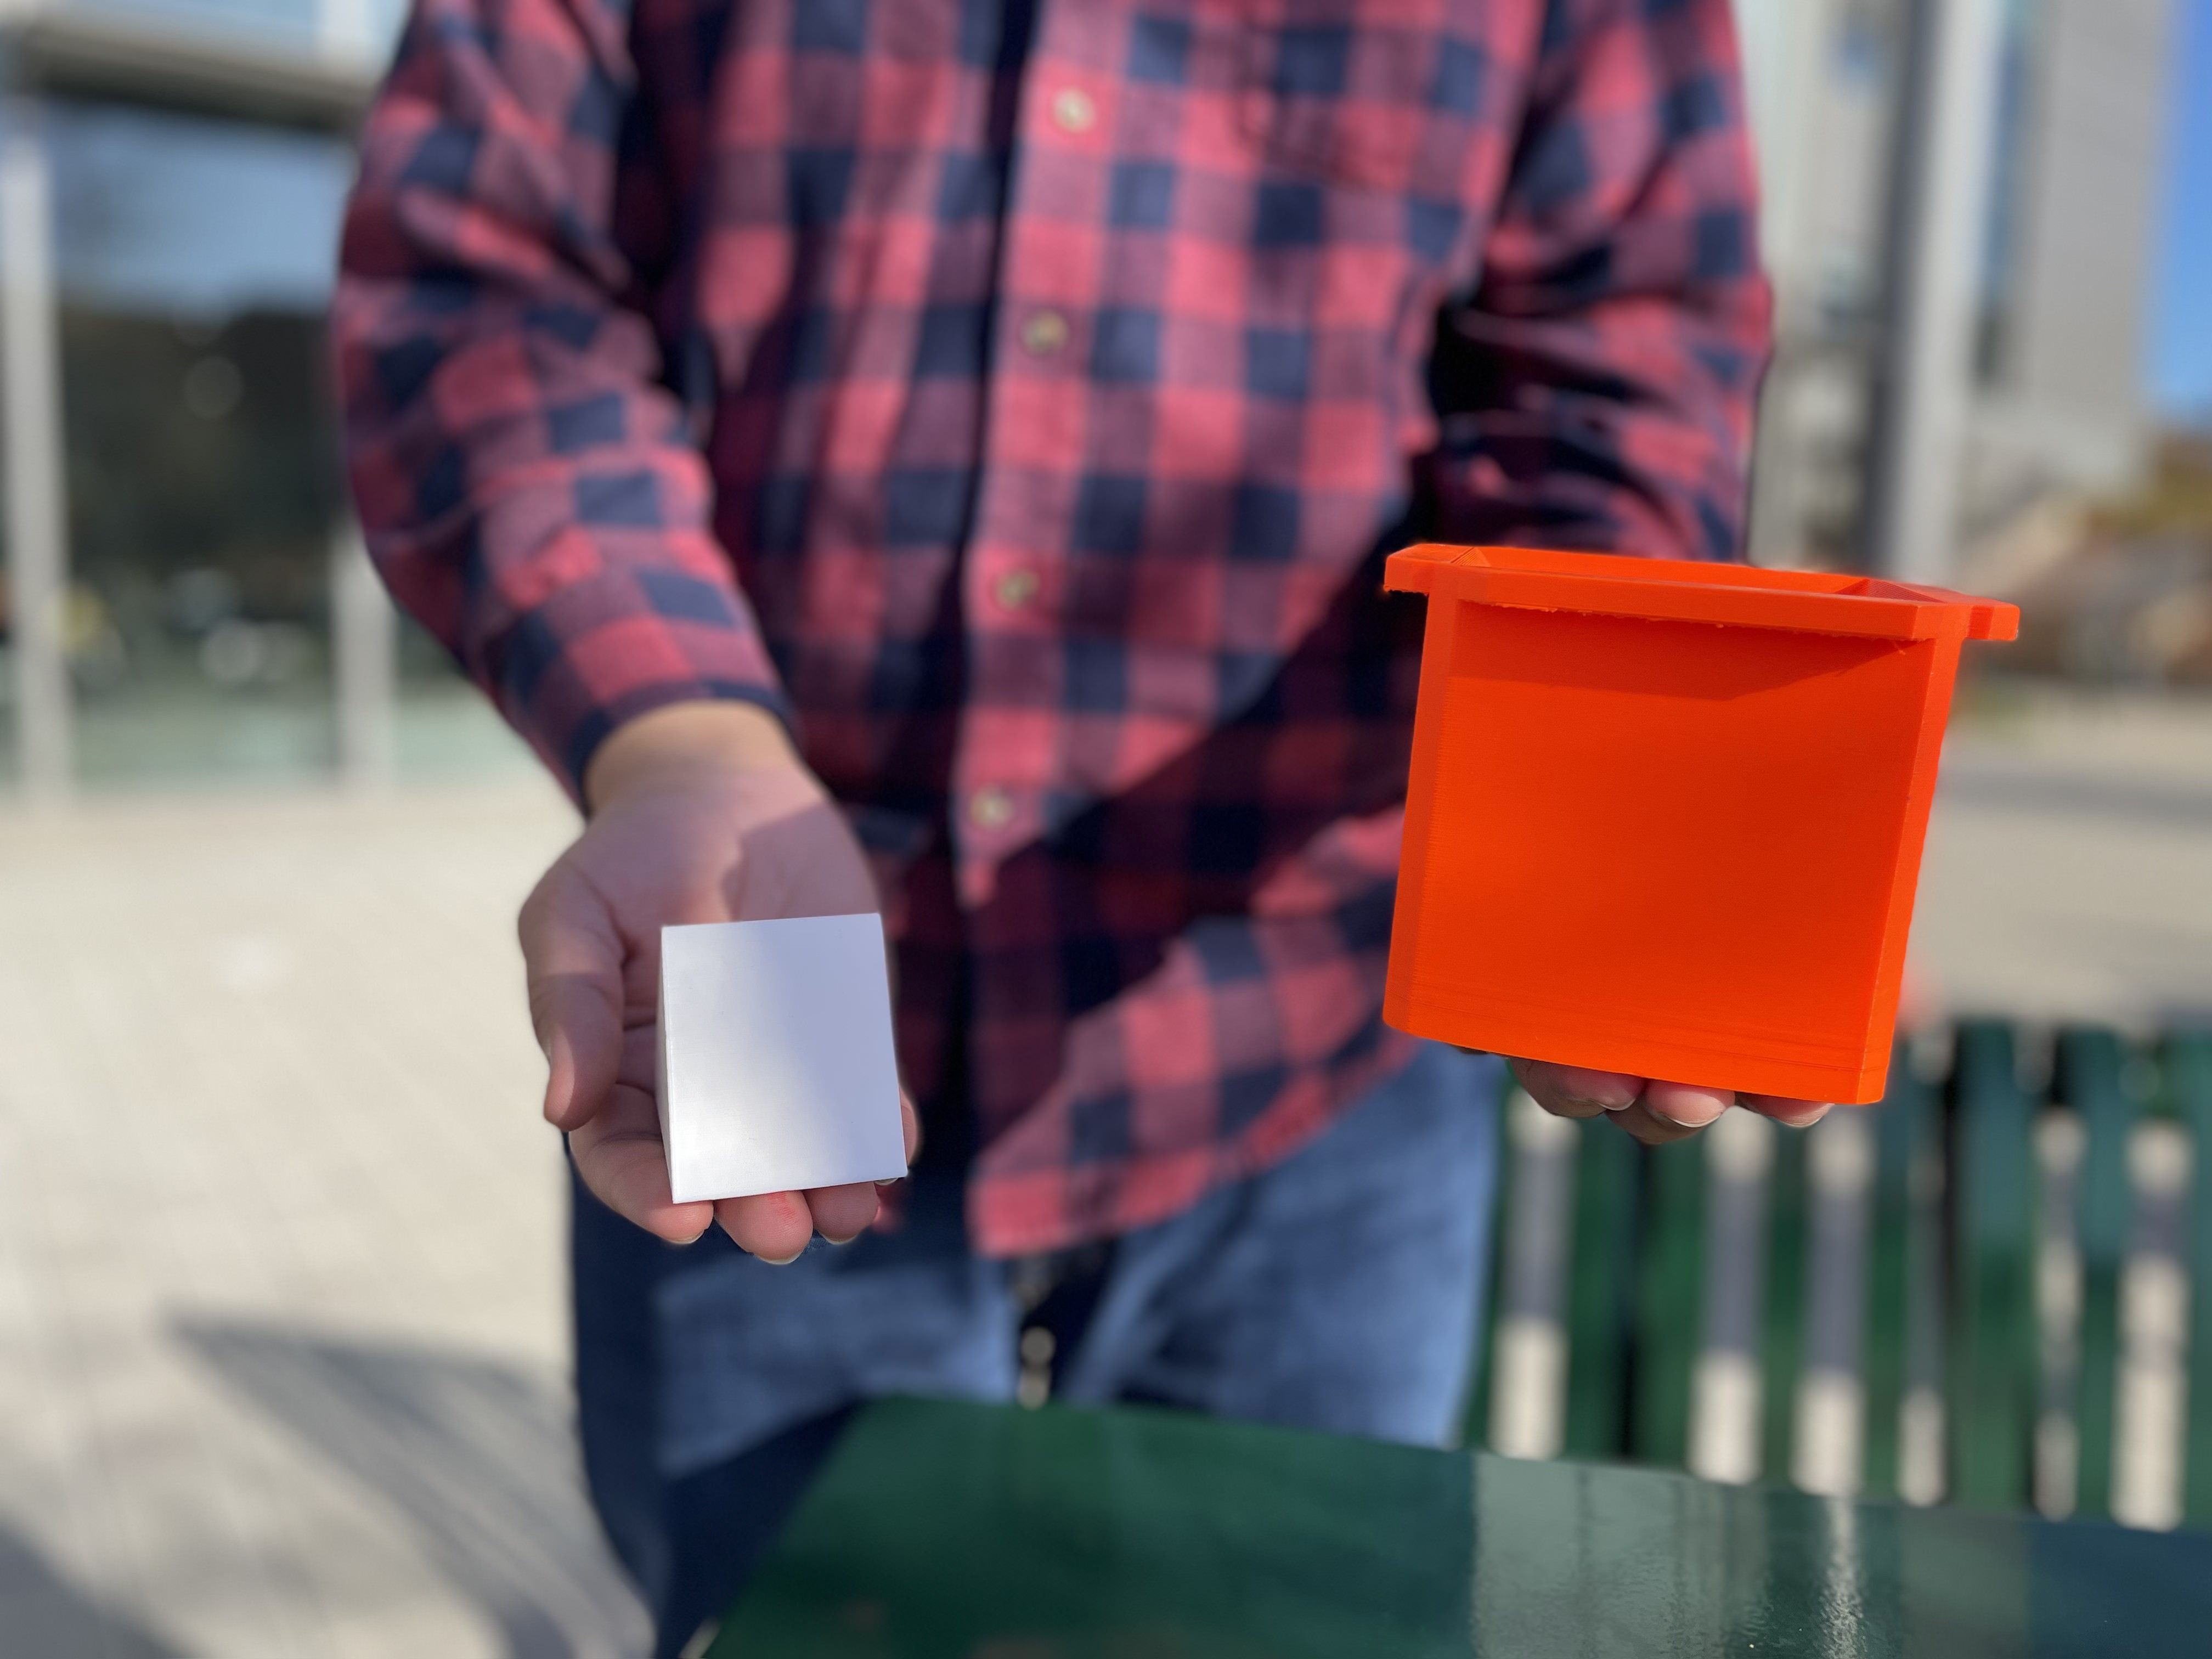payload1: (1350, 502, 2043, 1114)
payload2: (643, 894, 923, 1215)
